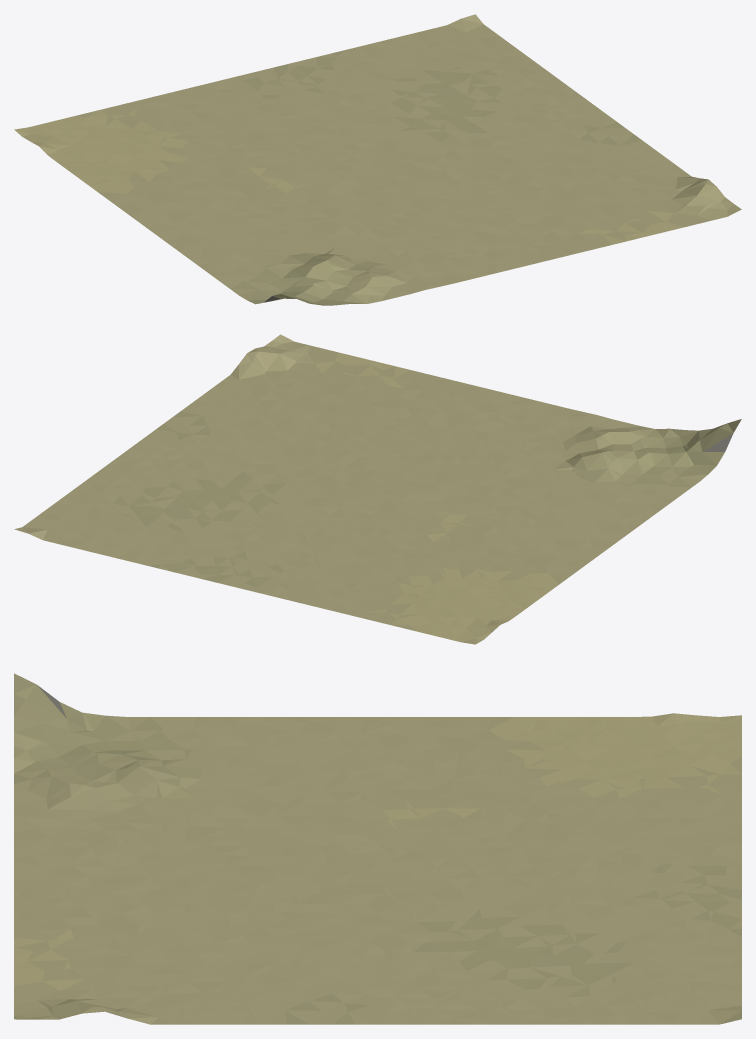
Rendered from Ground_3_-9.glb.
3 views of the same model, one above another, from view 1: azimuth 30°, elevation 25°; view 2: azimuth 150°, elevation 25°; view 3: azimuth 270°, elevation 25° (orthographic). The views are drawn at different scales.
Visible parts, largest first — view 1: Ground_3_-9; view 2: Ground_3_-9; view 3: Ground_3_-9.
Boxes of the visible parts, <box> form: Ground_3_-9: <box>14,14,741,305</box>; Ground_3_-9: <box>14,334,741,644</box>; Ground_3_-9: <box>14,673,741,1024</box>.
Bounding box in the file's own units: 768 × 50.91 × 768.
